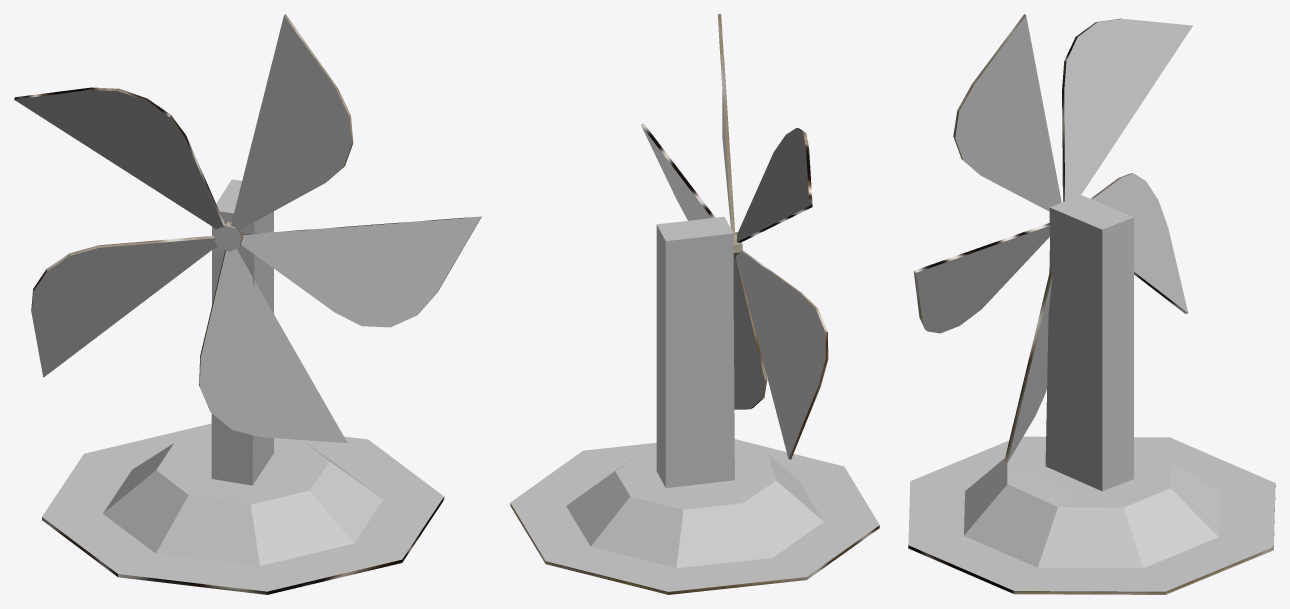
Rendered from Windmill2.fbx.
The picture shows the model from 3 angles, left to right: view 1: azimuth 30°, elevation 25°; view 2: azimuth 150°, elevation 25°; view 3: azimuth 270°, elevation 25°; orthographic projection. The views are drawn at different scales.
Parts seen in each view (by area): view 1: Cube.007; view 2: Cube.007; view 3: Cube.007.
Boxes of the visible parts, <box> form: Cube.007: <box>14,14,481,594</box>; Cube.007: <box>510,14,879,594</box>; Cube.007: <box>908,14,1275,594</box>.
Size of the model in its own units: 2286 by 3321 by 2182.
